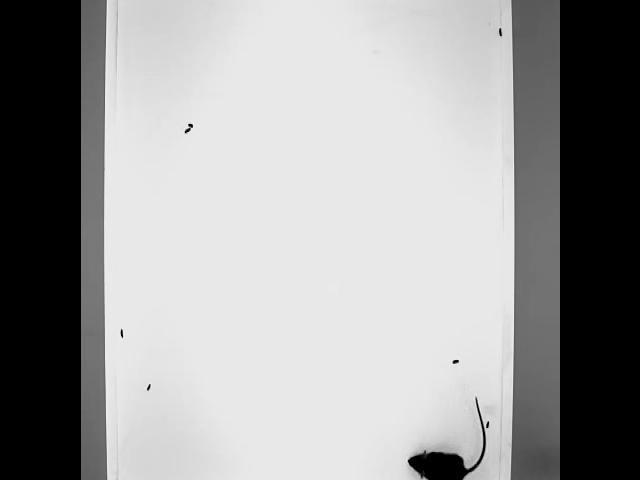Tikus: (406, 392, 488, 480)
